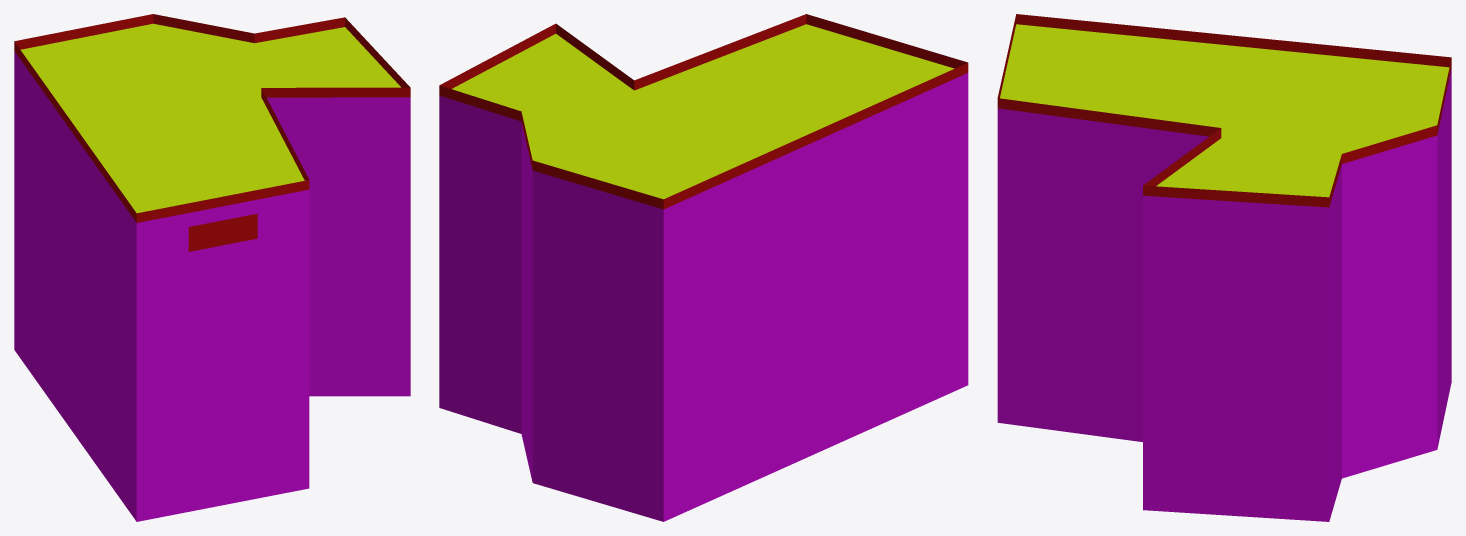
The model's file is bgj_356.glb.
3 renders of one model, left to right at view 1: azimuth 30°, elevation 25°; view 2: azimuth 150°, elevation 25°; view 3: azimuth 270°, elevation 25°, orthographic. The views are drawn at different scales.
Parts seen in each view (by area): view 1: bgj_356; view 2: bgj_356; view 3: bgj_356.
Boxes of the visible parts, left/top/right/bottom form: bgj_356: left=14, top=14, right=410, bottom=521; bgj_356: left=439, top=14, right=968, bottom=521; bgj_356: left=997, top=14, right=1451, bottom=521.
Bounding box in the file's own units: 13.47 × 11.13 × 14.11.
